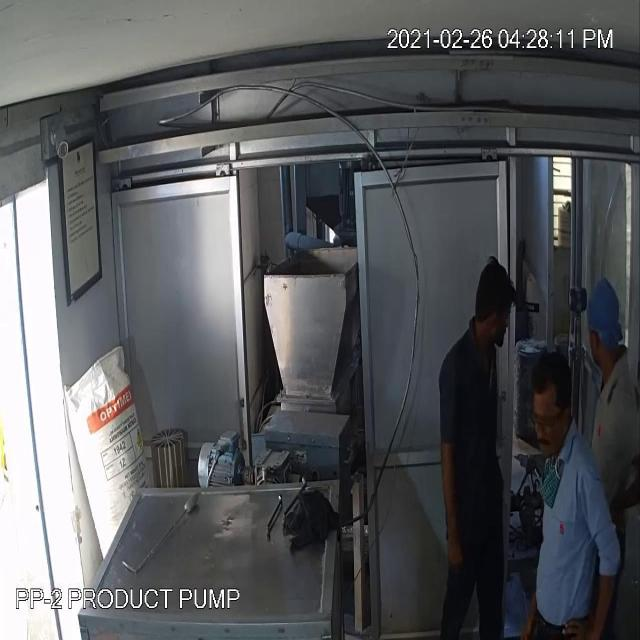no-helmet: (464, 252, 518, 332), (527, 359, 577, 438), (585, 278, 625, 372)
